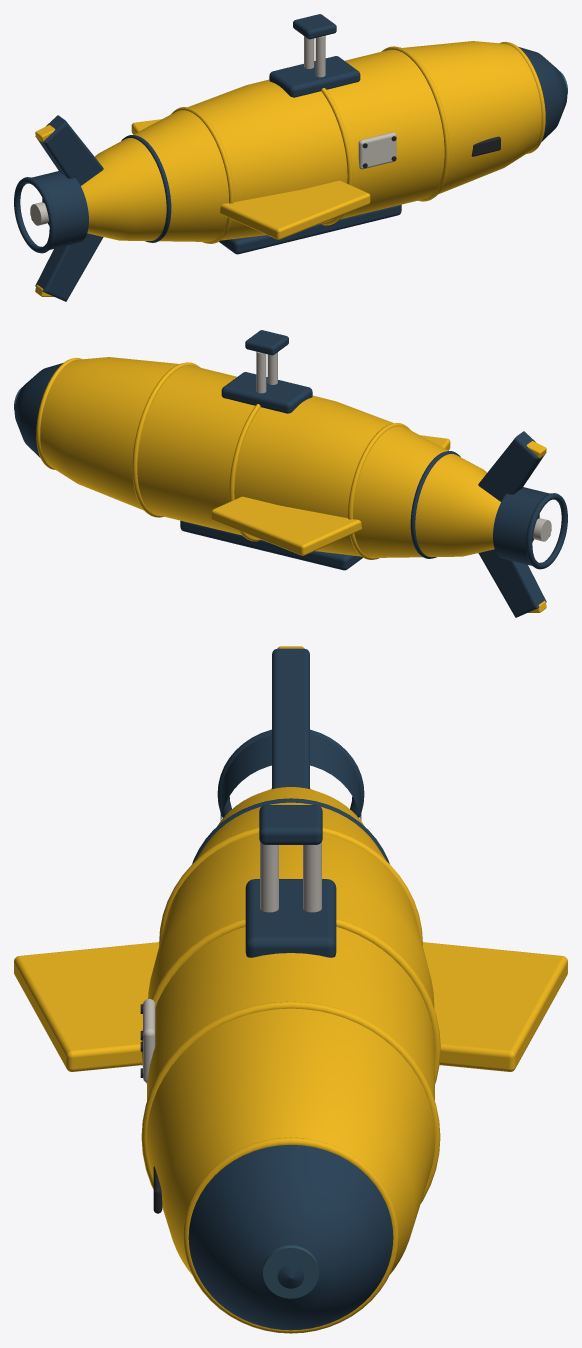
Rendered from robots-27.glb.
3 renders of one model, top to bottom at view 1: azimuth 30°, elevation 25°; view 2: azimuth 150°, elevation 25°; view 3: azimuth 270°, elevation 25°, orthographic. The views are drawn at different scales.
Parts seen in each view (by area): view 1: hull, fins, rudders, seams, duct, mast, skid, bow, hatch, window, rotor; view 2: hull, fins, rudders, seams, duct, mast, skid, bow, rotor; view 3: hull, bow, fins, seams, mast, rudders, duct, window, hatch.
Boxes of the visible parts, x1,y1,x2,y2 form: hull: [81, 41, 541, 241]; fins: [131, 119, 370, 239]; rudders: [35, 115, 103, 301]; seams: [121, 41, 545, 243]; duct: [14, 171, 88, 253]; mast: [269, 14, 360, 97]; skid: [219, 204, 401, 254]; bow: [519, 47, 567, 141]; hatch: [358, 132, 396, 169]; window: [471, 71, 567, 156]; rotor: [30, 198, 49, 225]; hull: [40, 357, 500, 557]; fins: [211, 435, 450, 555]; rudders: [478, 431, 546, 617]; seams: [36, 357, 460, 559]; duct: [493, 487, 567, 569]; mast: [221, 330, 312, 413]; skid: [180, 520, 362, 570]; bow: [14, 363, 62, 457]; rotor: [532, 514, 551, 541]; hull: [147, 787, 434, 1274]; bow: [188, 1145, 393, 1330]; fins: [14, 942, 567, 1071]; seams: [141, 798, 440, 1333]; mast: [245, 805, 336, 957]; rudders: [272, 646, 309, 788]; duct: [217, 729, 364, 820]; window: [153, 1166, 318, 1298]; hatch: [140, 998, 155, 1082].
Bounding box in the file's own units: 3.17 × 1.23 × 1.52.
